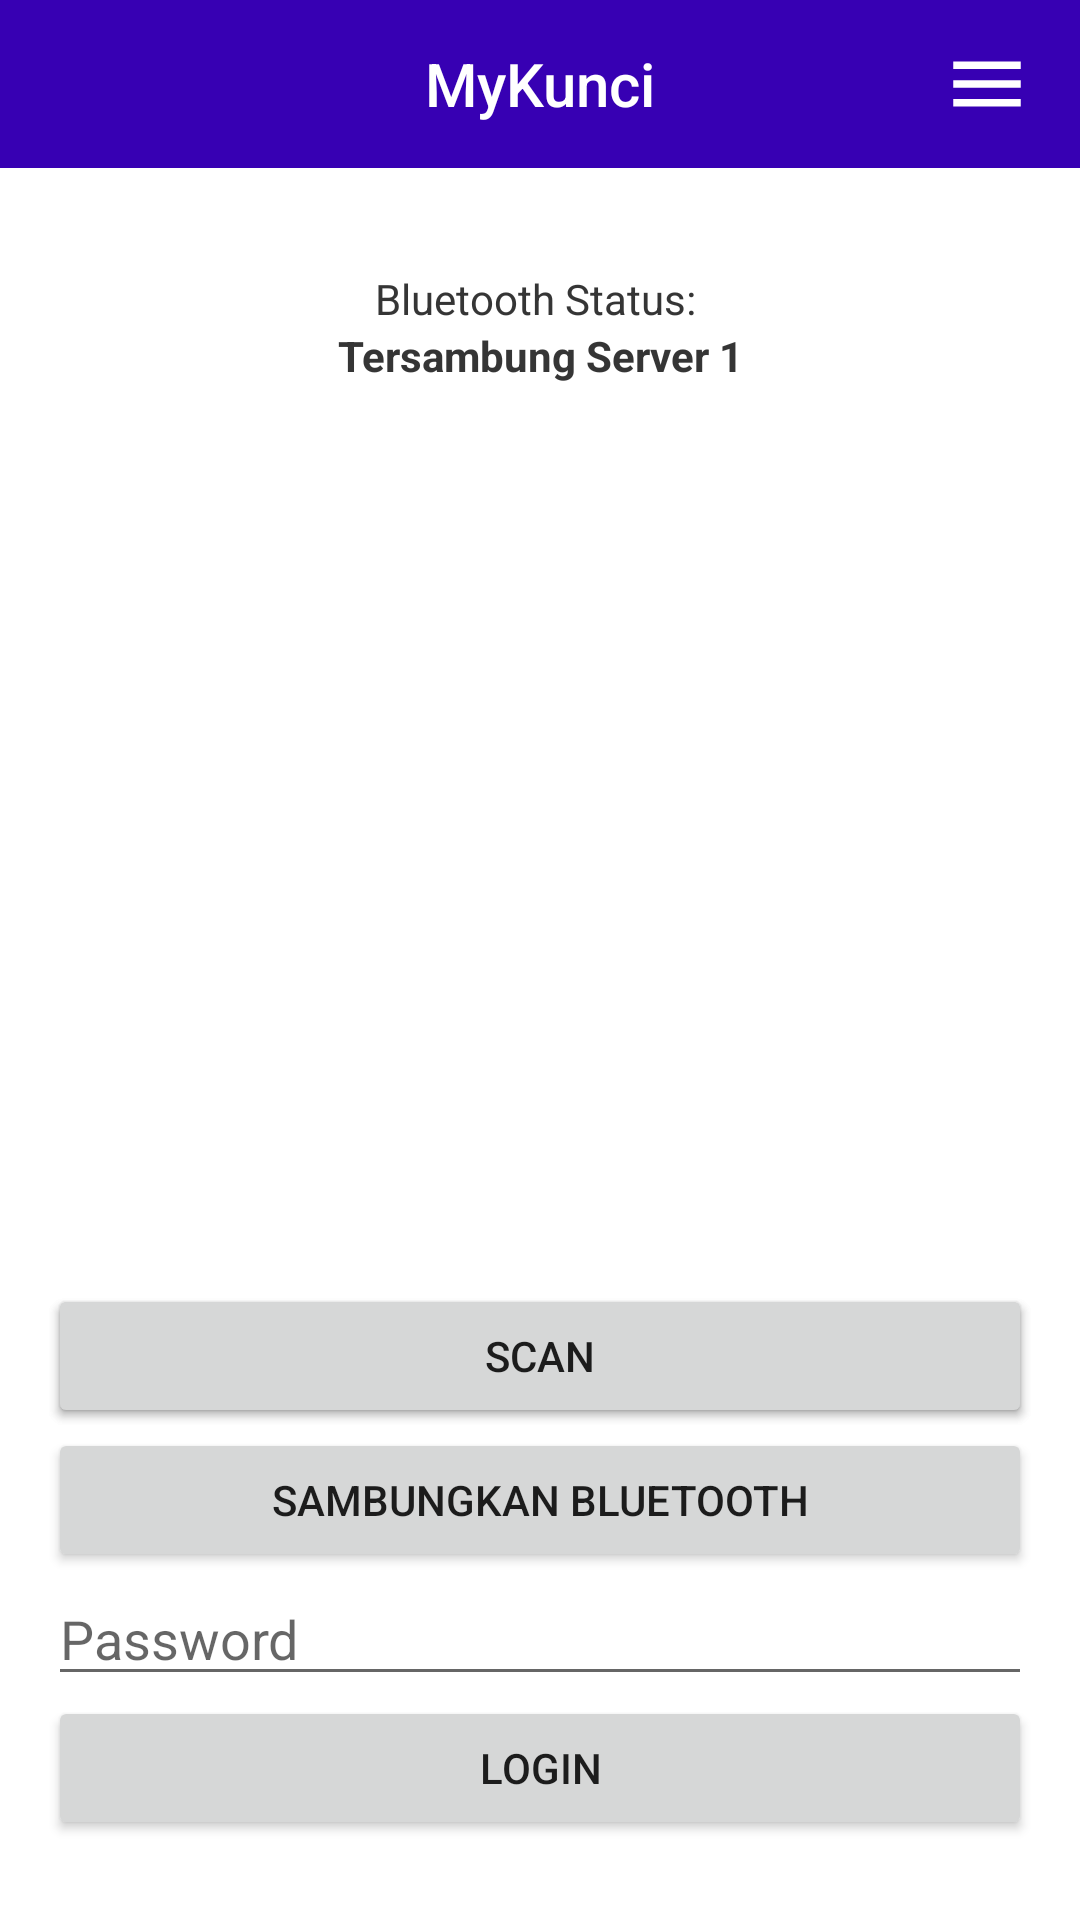

Screen size 1080w x 1920h. Icon name, then its center in pixels as point (x, y):
menu: point (987, 84)
